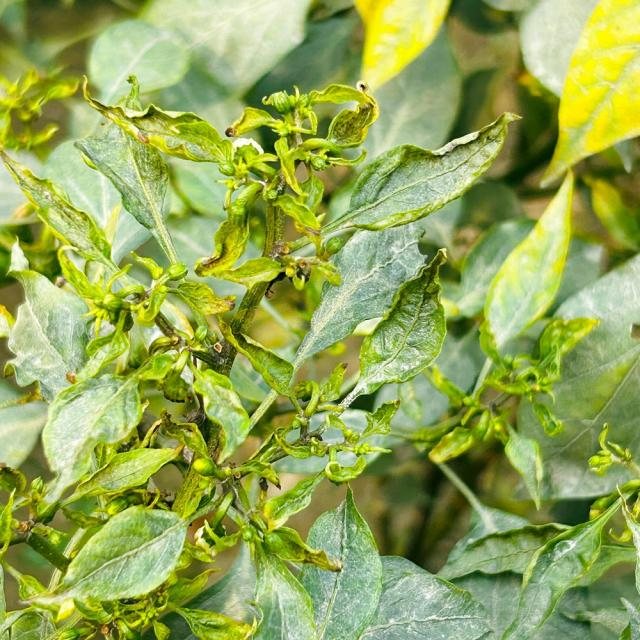Chilli_Leaf_Curl: (1, 2, 638, 638), (315, 110, 522, 244), (284, 222, 430, 396), (537, 0, 639, 189), (336, 246, 449, 411), (23, 503, 189, 613), (79, 73, 237, 176)
